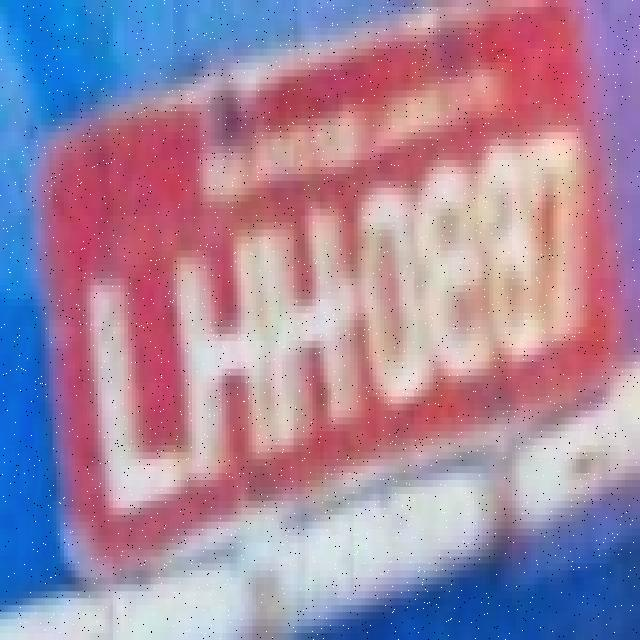licenseplate: (19, 0, 626, 595)
